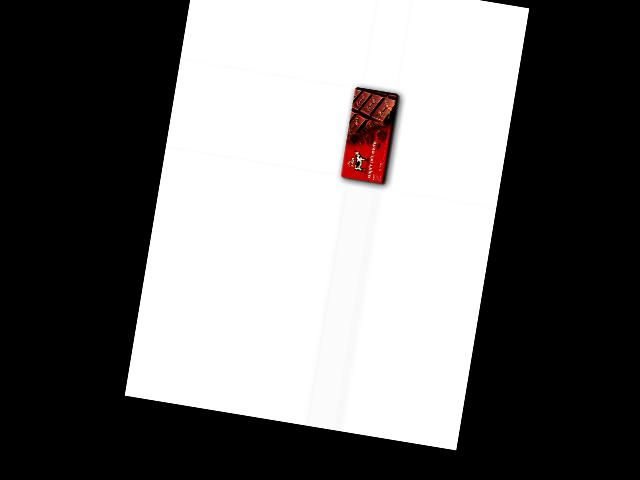chocolate: (338, 84, 402, 187)
